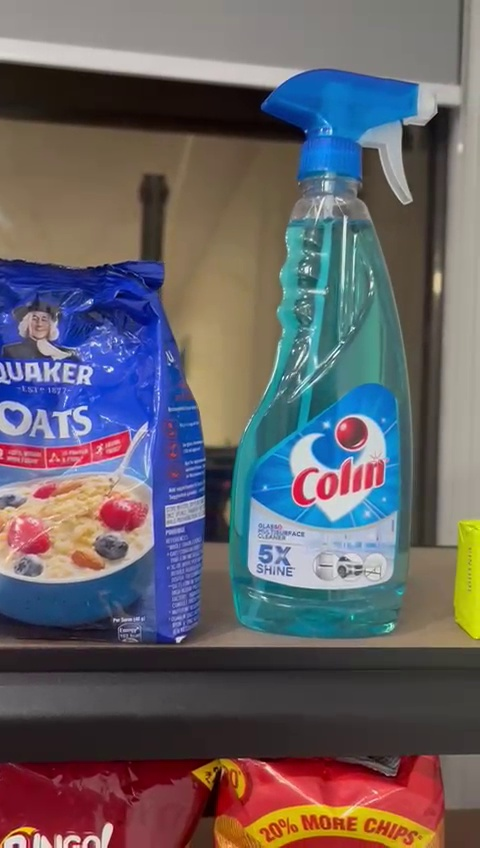Colin: (213, 63, 451, 636)
